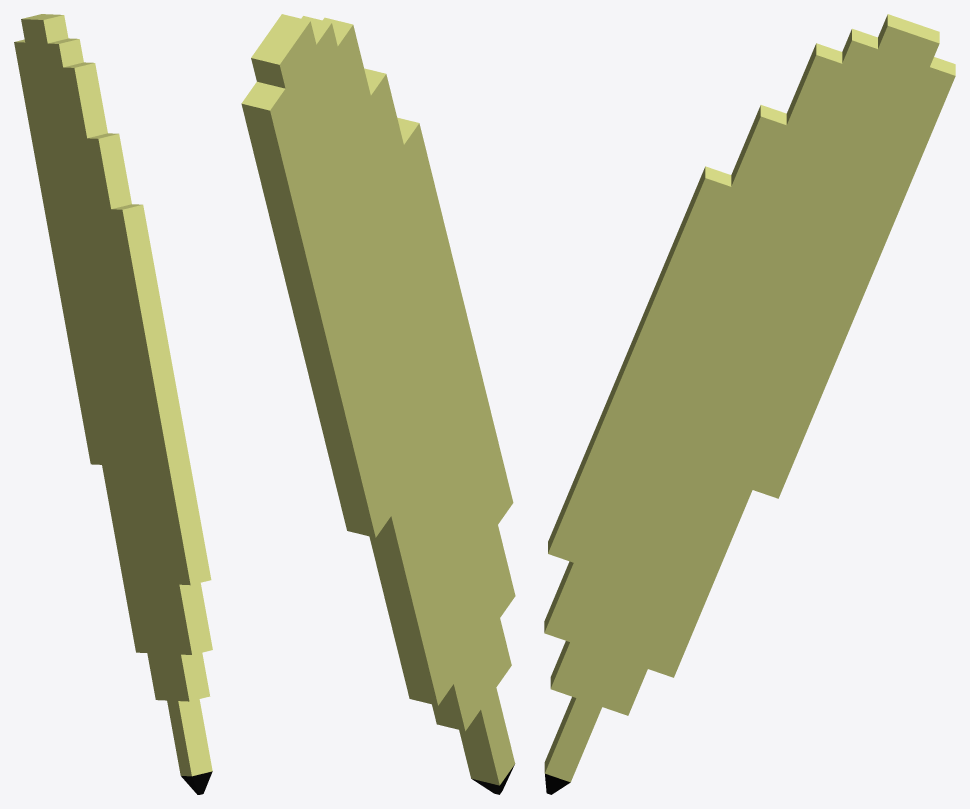
File: jam kalem.fbx
The picture shows the model from 3 angles, left to right: view 1: azimuth 30°, elevation 25°; view 2: azimuth 150°, elevation 25°; view 3: azimuth 270°, elevation 25°; orthographic projection. The views are drawn at different scales.
Visible parts, largest first — view 1: Plane.004; view 2: Plane.004; view 3: Plane.004.
Part boxes in pixels (x1,y1,x2,y2): Plane.004: (14, 14, 212, 794); Plane.004: (241, 14, 515, 794); Plane.004: (544, 14, 955, 794).
Size of the model in its own units: 3.67 by 113 by 54.39.
